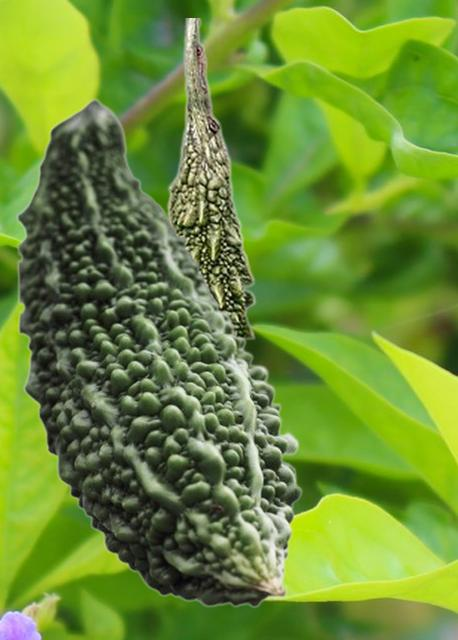ampalaya: (16, 97, 302, 607), (163, 18, 256, 349)
